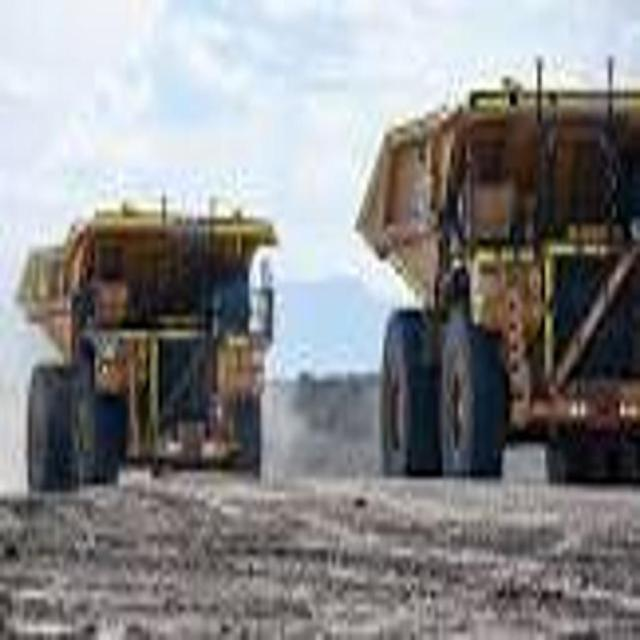dump_truck: (357, 63, 640, 514), (13, 180, 282, 539)
